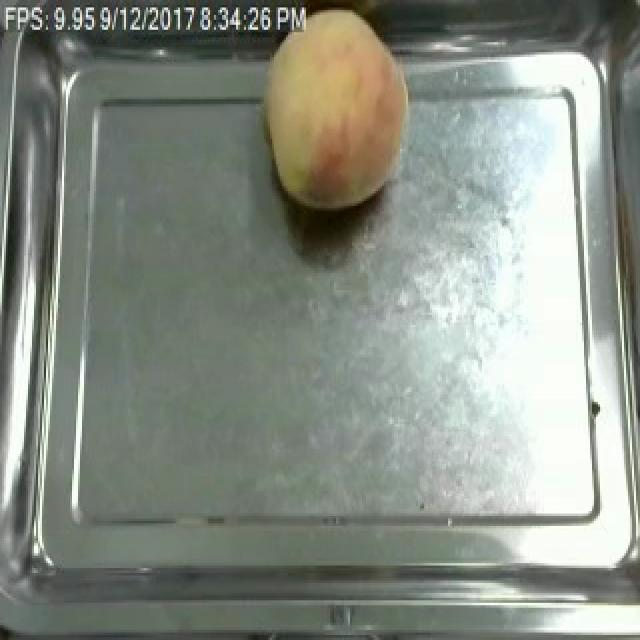Fruit: (250, 2, 416, 221)
